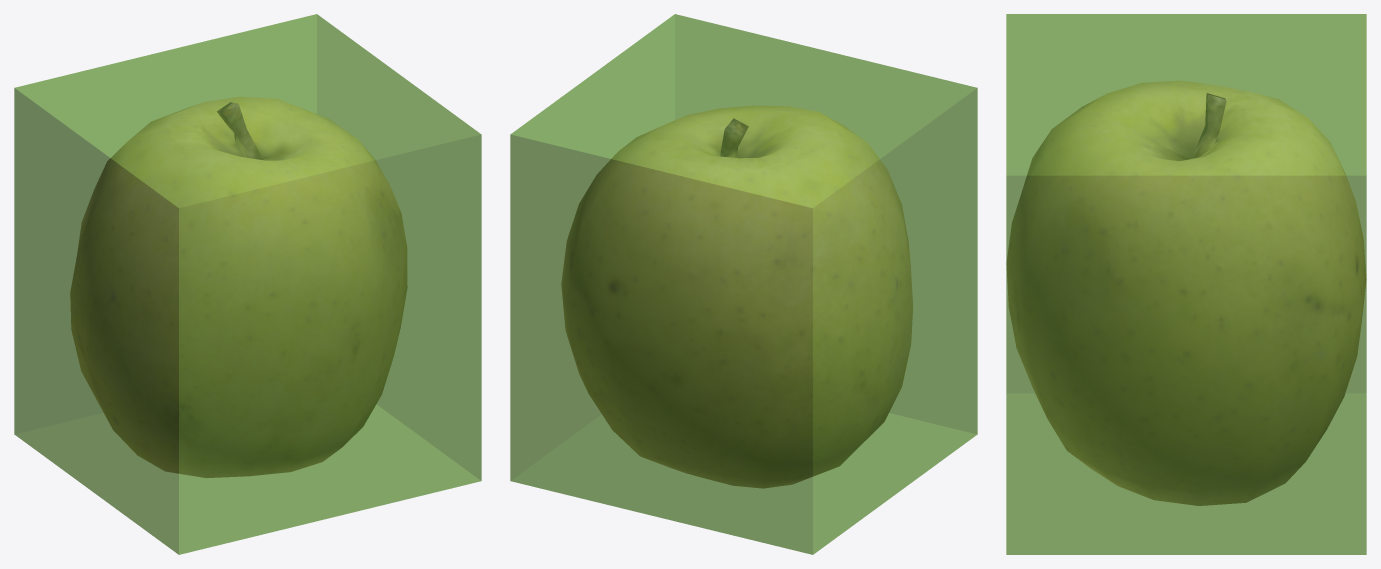
The model's file is pg_AppleGreen_01.fbx.
The picture shows the model from 3 angles, left to right: view 1: azimuth 30°, elevation 25°; view 2: azimuth 150°, elevation 25°; view 3: azimuth 270°, elevation 25°; orthographic projection. The views are drawn at different scales.
Visible parts, largest first — view 1: pg_AppleGreen_01_col, pg_AppleGreen_01_LOD0; view 2: pg_AppleGreen_01_col, pg_AppleGreen_01_LOD0; view 3: pg_AppleGreen_01_col, pg_AppleGreen_01_LOD0.
Part boxes in pixels (box(x1,y1,x2,y2)): pg_AppleGreen_01_col: box(14, 14, 481, 554); pg_AppleGreen_01_LOD0: box(70, 96, 407, 477); pg_AppleGreen_01_col: box(510, 14, 977, 554); pg_AppleGreen_01_LOD0: box(561, 105, 913, 488); pg_AppleGreen_01_col: box(1006, 14, 1366, 554); pg_AppleGreen_01_LOD0: box(1006, 80, 1366, 505).
Size of what is drawn, in the model's own units: 7.65 by 8.37 by 7.2.
